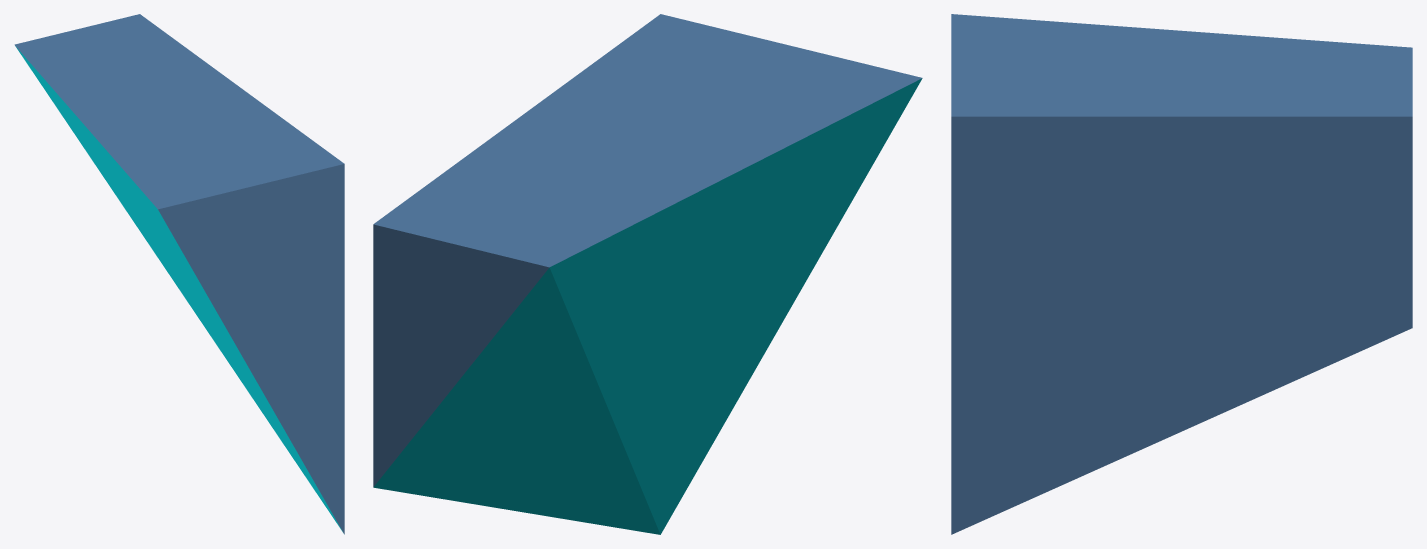
Rendered from wrong2.fbx.
3 views of the same model, side by side, from view 1: azimuth 30°, elevation 25°; view 2: azimuth 150°, elevation 25°; view 3: azimuth 270°, elevation 25° (orthographic). The views are drawn at different scales.
Parts seen in each view (by area): view 1: wrong2; view 2: wrong2; view 3: wrong2.
Boxes of the visible parts, x1,y1,x2,y2 form: wrong2: [14, 14, 344, 534]; wrong2: [373, 14, 922, 534]; wrong2: [951, 14, 1412, 534].
Bounding box in the file's own units: 30.72 × 58.33 × 58.33.
